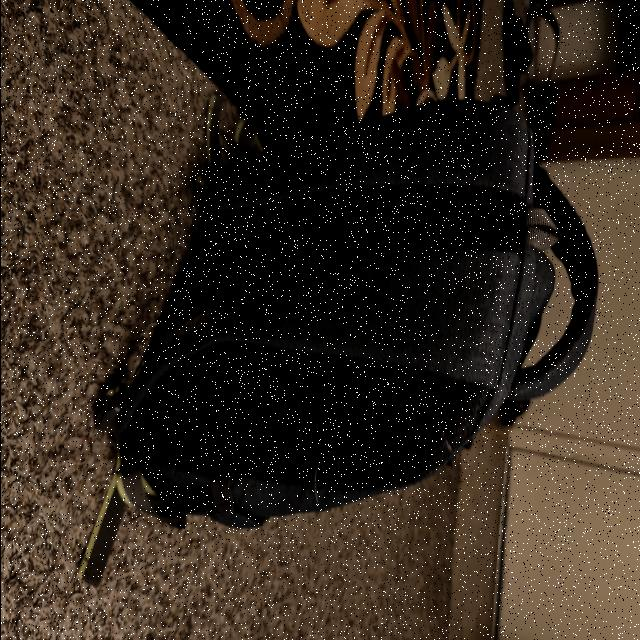bag: (140, 104, 600, 507)
